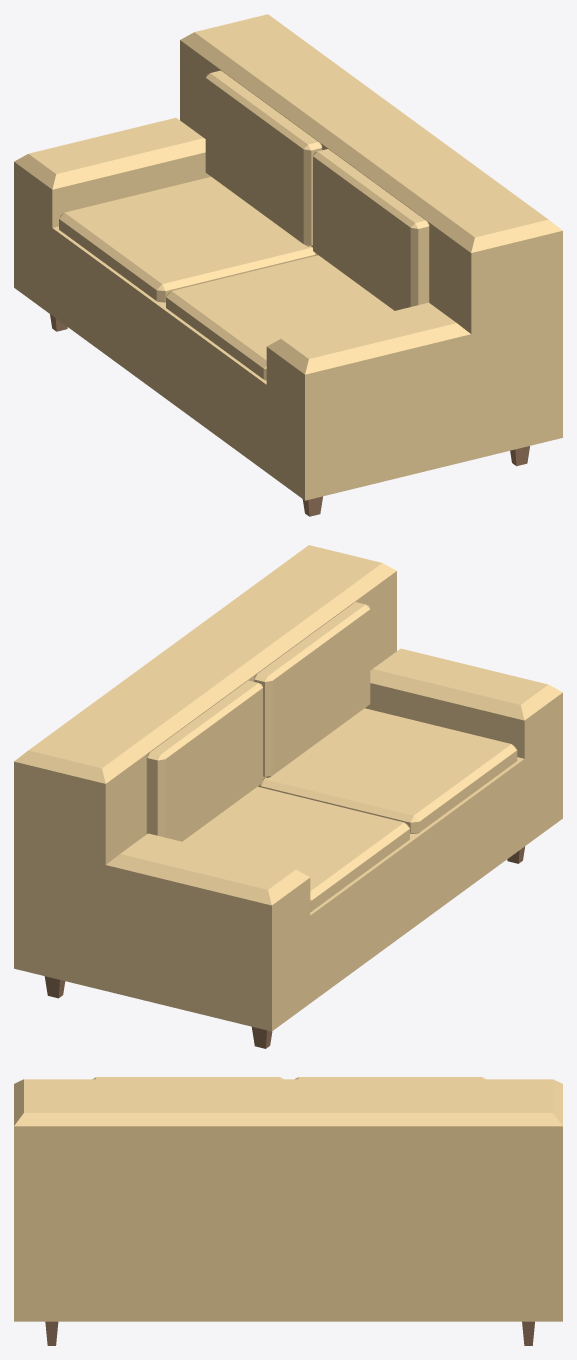
File: Sala_Sofa_09.fbx
The picture shows the model from 3 angles, top to bottom: view 1: azimuth 30°, elevation 25°; view 2: azimuth 150°, elevation 25°; view 3: azimuth 270°, elevation 25°; orthographic projection. The views are drawn at different scales.
Visible parts, largest first — view 1: sofa; view 2: sofa; view 3: sofa.
Boxes of the visible parts, bbox=[...] form: sofa: bbox=[14, 14, 562, 516]; sofa: bbox=[14, 545, 562, 1048]; sofa: bbox=[14, 1077, 562, 1345].
Size of the model in its own units: 54.52 by 50.74 by 107.
Materials: 2 (2 with a texture image).
